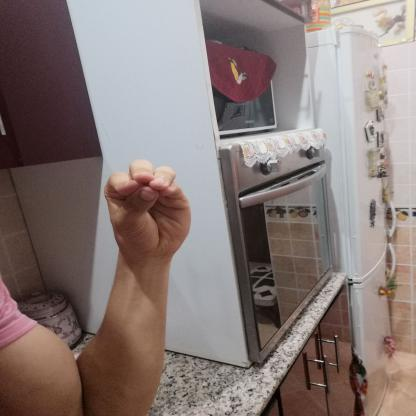HA: (92, 152, 206, 268)
